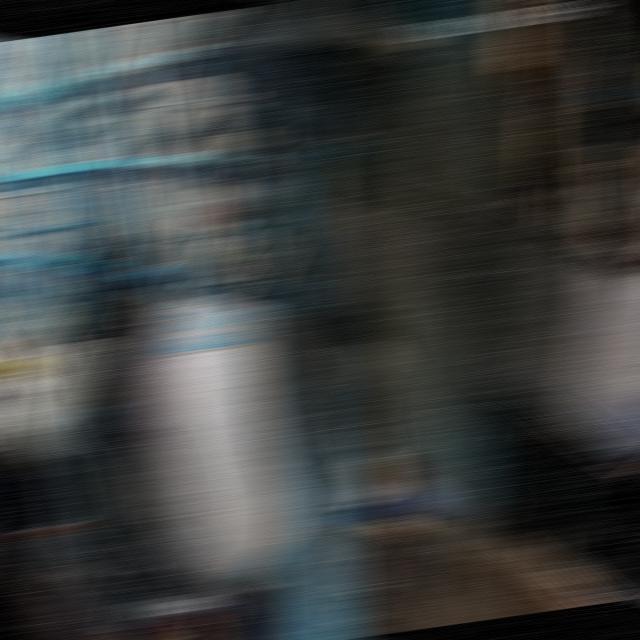cement_mixer_truck: (3, 299, 441, 639)
swing_chute: (265, 121, 380, 332)
